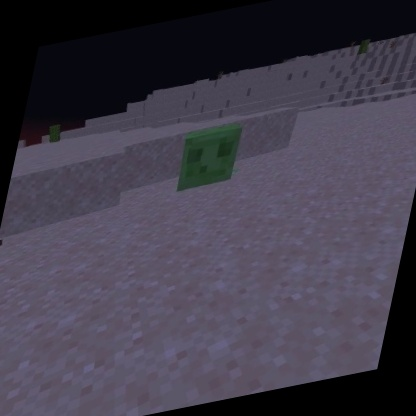slime: (171, 119, 246, 196)
